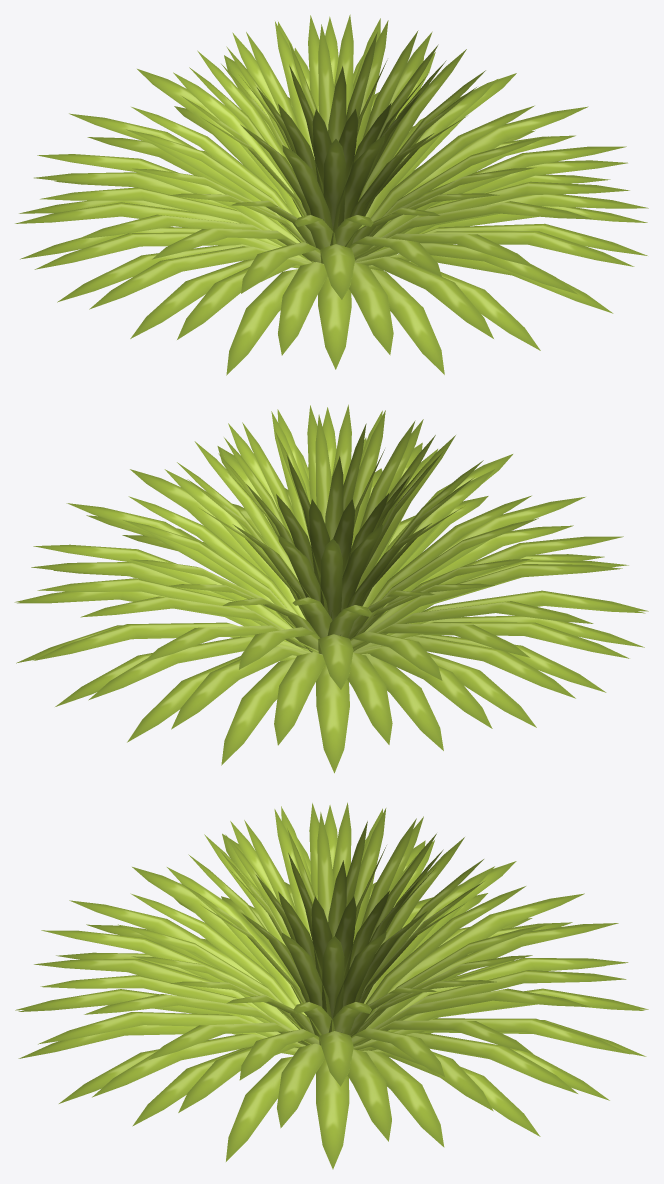
Rendered from planta8.fbx.
The picture shows the model from 3 angles, top to bottom: view 1: azimuth 30°, elevation 25°; view 2: azimuth 150°, elevation 25°; view 3: azimuth 270°, elevation 25°; orthographic projection.
Visible parts, largest first — view 1: pPlane36, pPlane3, pPlane41, pPlane24, pPlane20, pPlane40, pPlane8, pPlane49, pPlane7, pPlane67, pPlane12, pPlane50 (+70 smaller); view 2: pPlane38, pPlane7, pPlane35, pPlane27, pPlane31, pPlane47, pPlane1, pPlane10, pPlane18, pPlane19, pPlane37, pPlane36 (+67 smaller); view 3: pPlane42, pPlane29, pPlane4, pPlane53, pPlane18, pPlane43, pPlane30, pPlane9, pPlane21, pPlane12, pPlane61, pPlane72 (+65 smaller).
Boxes of the visible parts, bbox=[...] form: pPlane36: bbox=[89, 246, 311, 309]; pPlane3: bbox=[355, 256, 493, 338]; pPlane41: bbox=[37, 154, 299, 243]; pPlane24: bbox=[226, 269, 297, 375]; pPlane20: bbox=[278, 262, 327, 355]; pPlane40: bbox=[40, 187, 308, 260]; pPlane8: bbox=[370, 269, 444, 374]; pPlane49: bbox=[373, 146, 626, 237]; pPlane7: bbox=[34, 232, 306, 269]; pPlane67: bbox=[370, 105, 534, 221]; pPlane12: bbox=[349, 262, 393, 355]; pPlane50: bbox=[364, 181, 629, 256]; pPlane38: bbox=[368, 564, 622, 632]; pPlane7: bbox=[353, 636, 575, 698]; pPlane35: bbox=[221, 659, 294, 765]; pPlane27: bbox=[316, 665, 349, 773]; pPlane31: bbox=[274, 652, 325, 745]; pPlane47: bbox=[33, 544, 292, 629]; pPlane1: bbox=[171, 646, 309, 729]; pPlane10: bbox=[88, 636, 310, 700]; pPlane18: bbox=[33, 622, 303, 660]; pPlane19: bbox=[361, 653, 443, 750]; pPlane37: bbox=[365, 536, 623, 631]; pPlane36: bbox=[356, 622, 629, 658]; pPlane42: bbox=[375, 893, 584, 1009]; pPlane29: bbox=[38, 1012, 299, 1044]; pPlane4: bbox=[316, 1059, 349, 1169]; pPlane53: bbox=[41, 930, 298, 1030]; pPlane18: bbox=[358, 1032, 577, 1093]; pPlane43: bbox=[366, 923, 618, 1028]; pPlane30: bbox=[362, 1050, 444, 1147]; pPlane9: bbox=[226, 1056, 292, 1161]; pPlane21: bbox=[92, 1033, 298, 1097]; pPlane12: bbox=[34, 959, 266, 1014]; pPlane61: bbox=[366, 886, 525, 1016]; pPlane72: bbox=[130, 893, 295, 1008].
Size of the model in its own units: 8.28 by 3.21 by 8.26.
